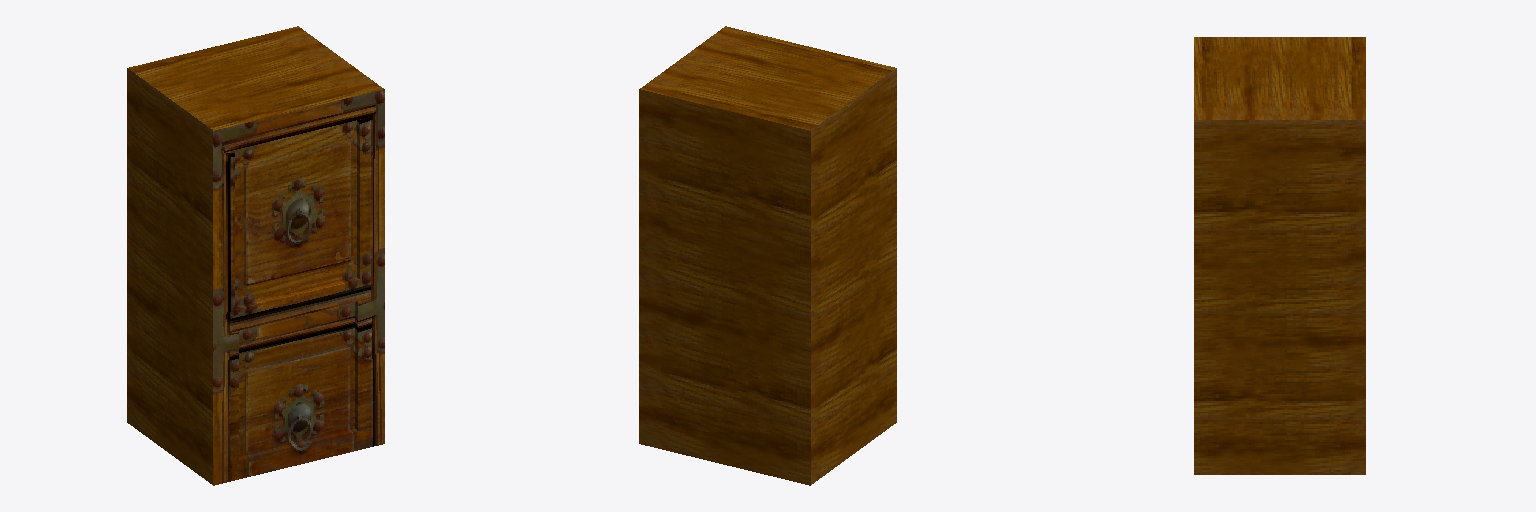
3 renders of one model, left to right at view 1: azimuth 30°, elevation 25°; view 2: azimuth 150°, elevation 25°; view 3: azimuth 270°, elevation 25°, orthographic.
Parts seen in each view (by area): view 1: furniture4; view 2: furniture4; view 3: furniture4.
Part boxes in pixels (x1,y1,x2,y2): furniture4: (127, 26, 384, 485); furniture4: (639, 26, 896, 485); furniture4: (1194, 37, 1365, 474).
Bounding box in the file's own units: 0.6053 × 1.2 × 0.5273.
Materials: 1 (1 with a texture image).